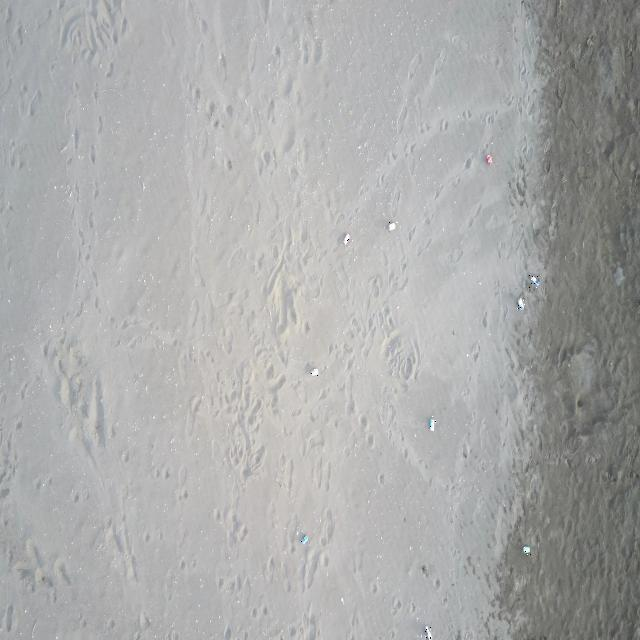Garbage: (528, 273, 540, 287), (427, 416, 435, 431), (516, 296, 524, 310), (424, 626, 432, 639), (343, 232, 350, 244), (308, 367, 318, 375), (387, 220, 395, 230), (300, 533, 307, 544), (522, 544, 529, 555), (484, 154, 492, 163)
